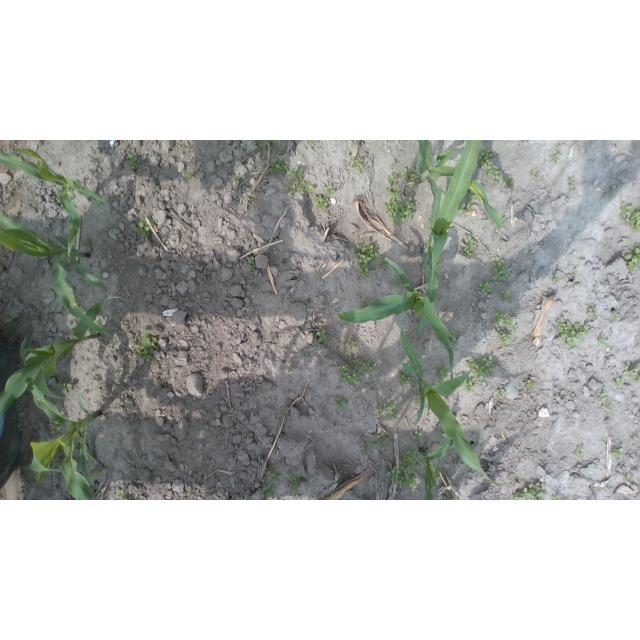Maize: (397, 308, 517, 487), (0, 296, 124, 418), (0, 213, 114, 341), (19, 331, 103, 500), (337, 256, 454, 377), (0, 145, 108, 267), (415, 140, 481, 338), (414, 141, 503, 244), (418, 436, 454, 500)
Weeds: (337, 355, 376, 385), (554, 316, 589, 349), (476, 148, 501, 189), (401, 451, 426, 490), (354, 241, 380, 278), (135, 328, 160, 364), (384, 197, 415, 226), (284, 168, 315, 195), (465, 356, 495, 381), (619, 200, 640, 233), (493, 310, 520, 333), (514, 482, 547, 500), (376, 398, 400, 421), (134, 218, 158, 239), (385, 173, 404, 199), (492, 256, 509, 282), (624, 243, 640, 269), (55, 378, 75, 397), (269, 157, 288, 175), (622, 365, 640, 383), (311, 194, 329, 212), (464, 235, 478, 258), (376, 428, 392, 448), (386, 467, 401, 486), (127, 152, 141, 172), (351, 157, 368, 173), (496, 331, 513, 347), (264, 467, 281, 483), (435, 365, 449, 384), (313, 328, 329, 344), (399, 371, 417, 385), (600, 394, 613, 413), (260, 483, 276, 498), (403, 167, 419, 182), (550, 147, 563, 165), (288, 473, 300, 491), (464, 190, 478, 205), (335, 396, 348, 412), (50, 421, 64, 435), (361, 442, 373, 456), (504, 175, 515, 190), (480, 281, 492, 294), (255, 140, 267, 153), (458, 204, 473, 214), (116, 488, 128, 500), (524, 380, 536, 392), (586, 306, 597, 319), (345, 339, 358, 350), (463, 380, 474, 393), (500, 289, 512, 300), (360, 299, 373, 309), (599, 336, 610, 347), (325, 186, 336, 197), (24, 340, 39, 348), (379, 257, 392, 266), (74, 290, 85, 300), (243, 429, 253, 440), (412, 431, 423, 441), (443, 492, 455, 501), (92, 469, 105, 477), (613, 377, 623, 387), (285, 364, 295, 374), (392, 277, 401, 288), (551, 273, 560, 284), (248, 256, 256, 268), (568, 179, 577, 189), (183, 173, 195, 180), (33, 157, 42, 166), (612, 449, 621, 458), (576, 451, 585, 460), (529, 168, 539, 176), (84, 237, 92, 247), (448, 329, 456, 338), (439, 430, 447, 439), (496, 389, 506, 396), (612, 314, 620, 322), (233, 172, 241, 180), (608, 190, 617, 197), (248, 197, 257, 204), (450, 340, 457, 349), (315, 269, 324, 276), (415, 396, 421, 405), (391, 160, 397, 167), (284, 343, 291, 349), (282, 406, 288, 413), (303, 141, 317, 144), (65, 323, 70, 331), (185, 142, 192, 147), (552, 496, 560, 500), (631, 437, 639, 441), (300, 352, 308, 356), (625, 476, 630, 481), (572, 271, 577, 276), (593, 289, 599, 293), (271, 141, 279, 144), (40, 340, 45, 343)
